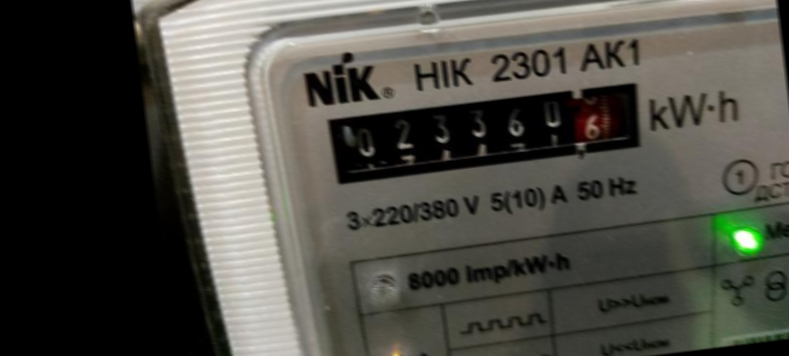0: (353, 122, 377, 157), (542, 95, 562, 127)
2: (390, 114, 417, 150)
3: (428, 109, 452, 144), (466, 104, 489, 137)
6: (502, 102, 526, 136), (579, 108, 603, 139)
screen: (308, 60, 659, 200)
